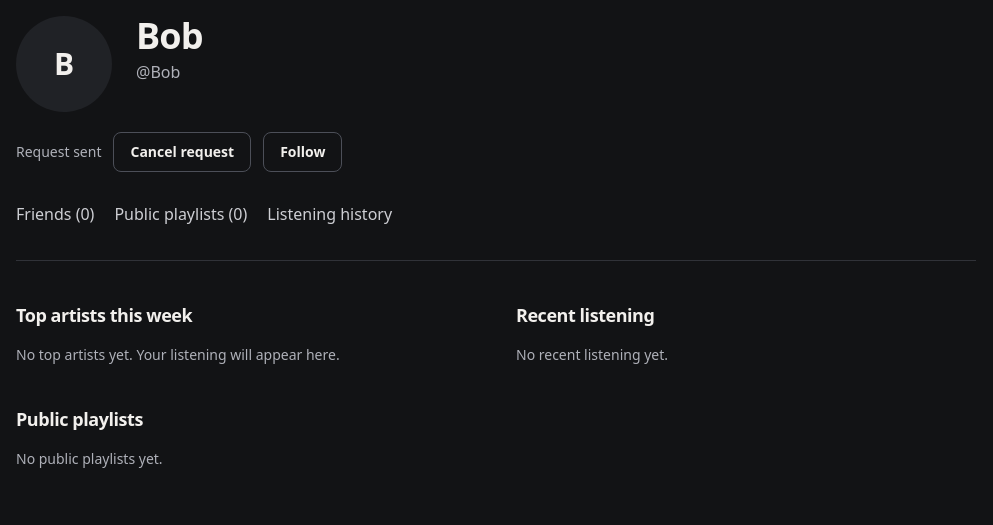
Test: profile friend controls › refreshes a stale pending action alice/Cancel friend request to Bob while retaining its failure feedback
This screenshot has width=993, height=525.
What coordinates should you click on to do the following:
click the button with aria-label "Cancel friend request to Bob"
I would click on:
 (182, 152)
Its box is [114,132,251,172].
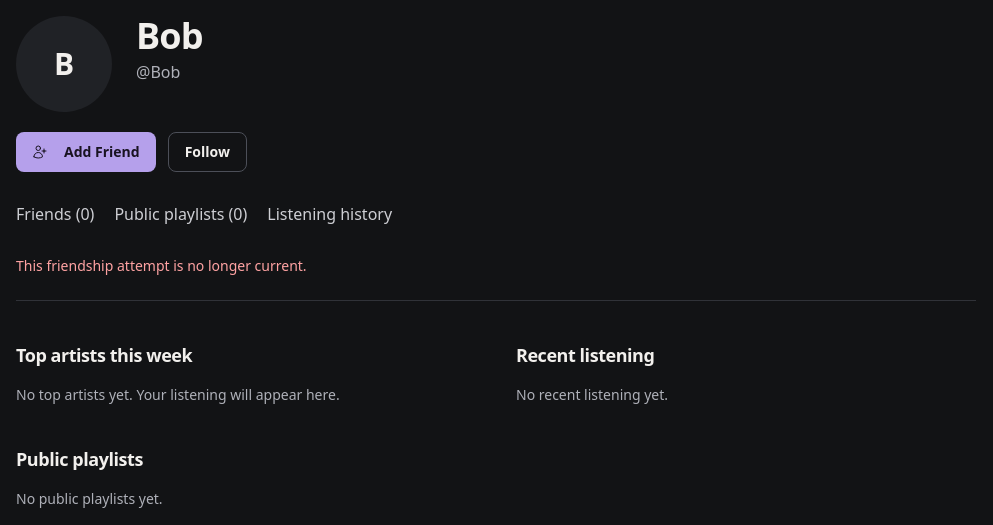
Expected: the button "Add Friend" is shown, [16,132,156,172]
Expected: the text "This friendship attempt is no longer current." is shown, [16,256,307,275]
